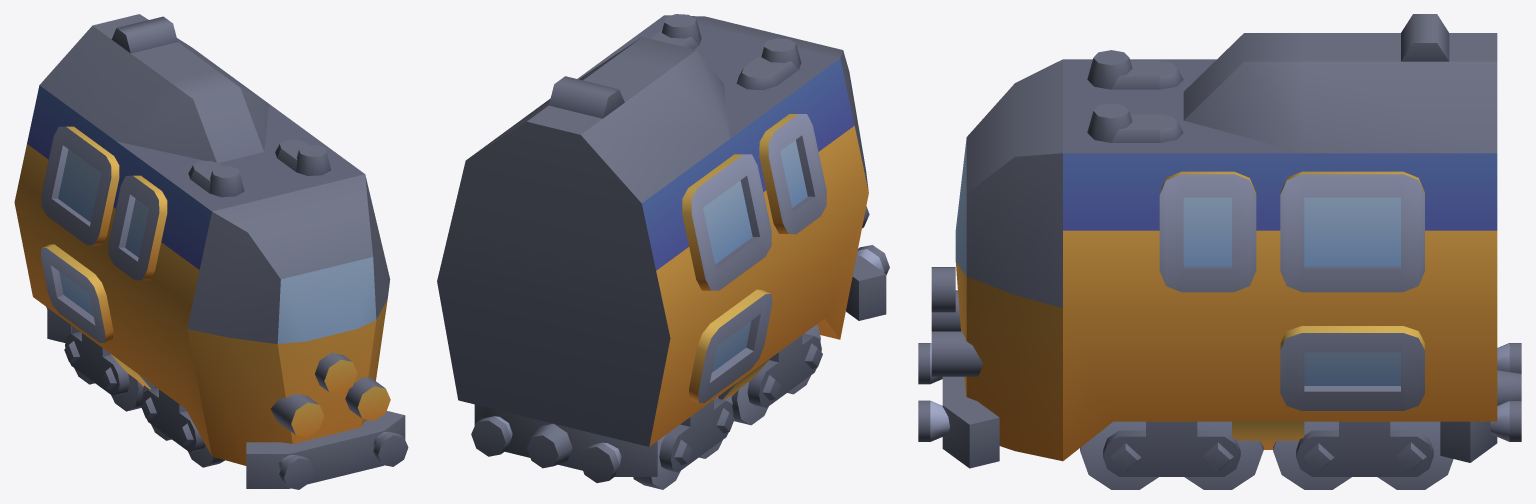
The model's file is train-electric-double-a.glb.
3 renders of one model, left to right at view 1: azimuth 30°, elevation 25°; view 2: azimuth 150°, elevation 25°; view 3: azimuth 270°, elevation 25°, orthographic. The views are drawn at different scales.
Parts seen in each view (by area): view 1: train-electric-double-a, wheels-back, wheels-front; view 2: train-electric-double-a, wheels-front, wheels-back; view 3: train-electric-double-a, wheels-front, wheels-back.
Boxes of the visible parts, box(x1,y1,x2,y2) form: train-electric-double-a: box(14, 14, 408, 489); wheels-back: box(64, 326, 143, 411); wheels-front: box(141, 385, 224, 467); train-electric-double-a: box(437, 14, 889, 482); wheels-front: box(731, 324, 822, 425); wheels-back: box(633, 395, 734, 489); train-electric-double-a: box(918, 14, 1521, 468); wheels-front: box(1080, 421, 1263, 489); wheels-back: box(1273, 421, 1453, 489).
Size of the model in its own units: 1.28 by 1.92 by 2.5.
